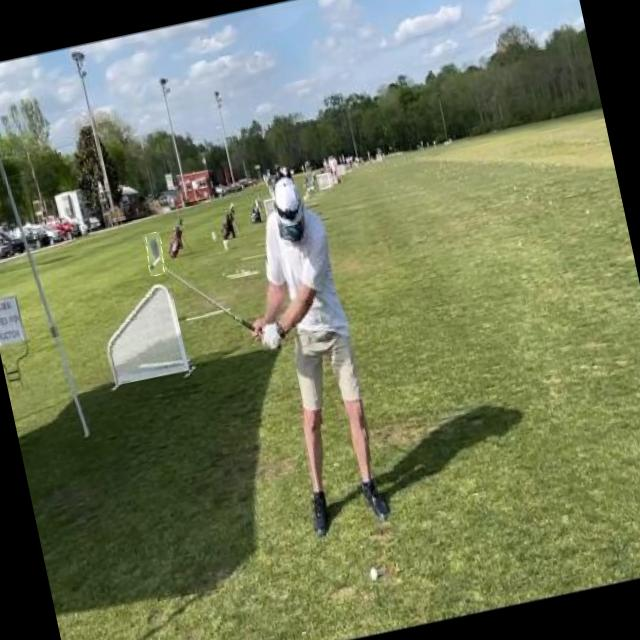club head: (143, 232, 167, 276)
